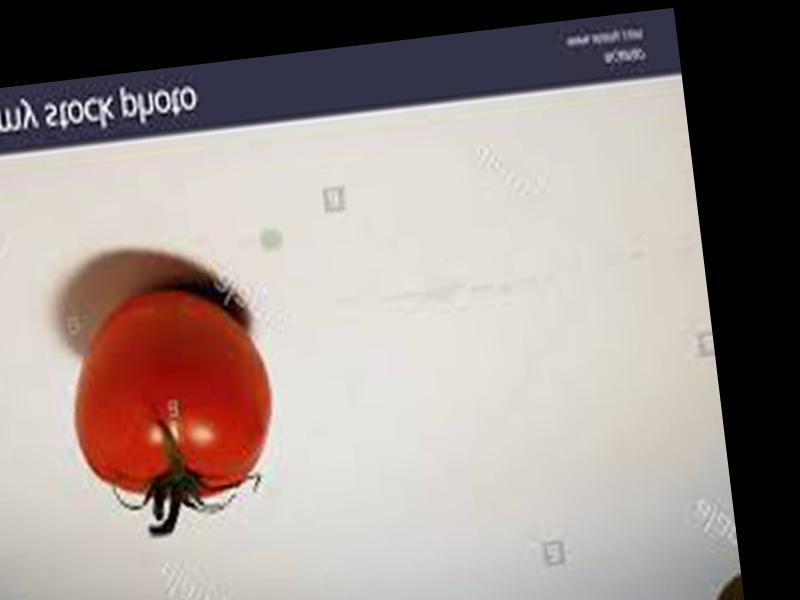Tomato: (62, 277, 281, 508)
